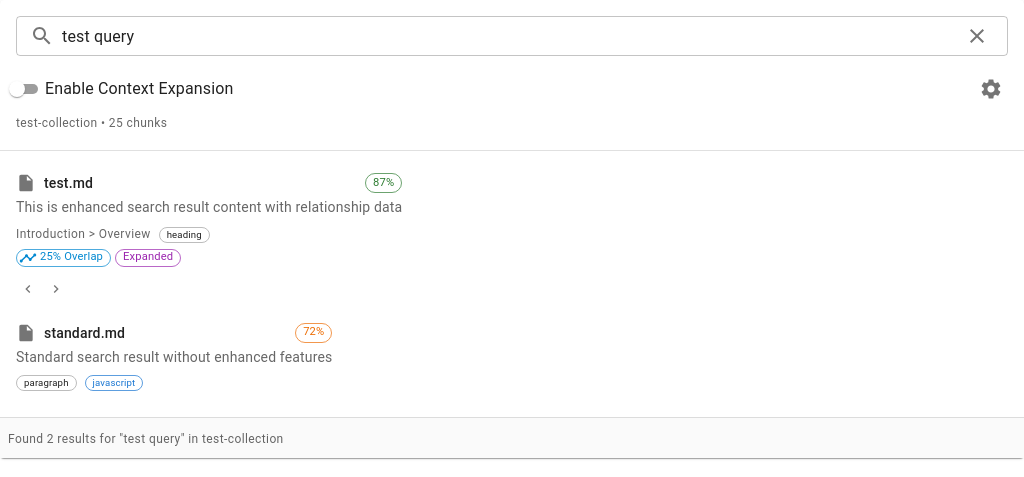
EnhancedVectorSearchPanel › Accessibility › provides meaningful tooltips for enhanced features
Hover to show tooltip
Hover over the text "25% Overlap" at (72, 257), box [40,250,103,264]
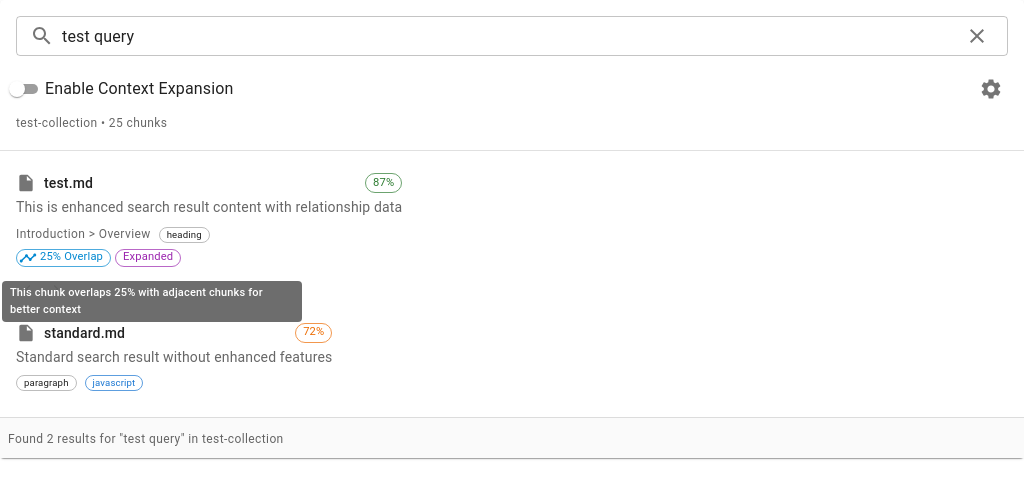
Expected: the text "This chunk overlaps 25% with adjacent chunks" is shown, [10,286,263,316]
